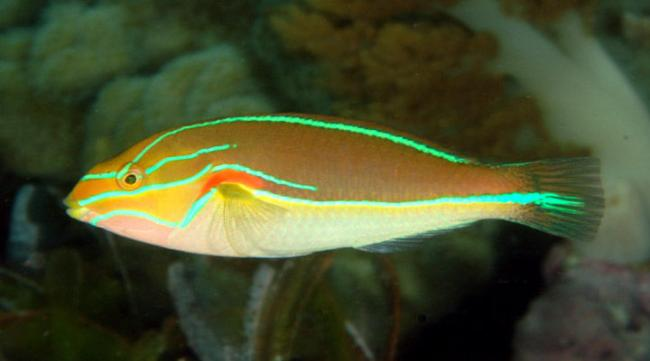fish: (62, 111, 605, 259)
